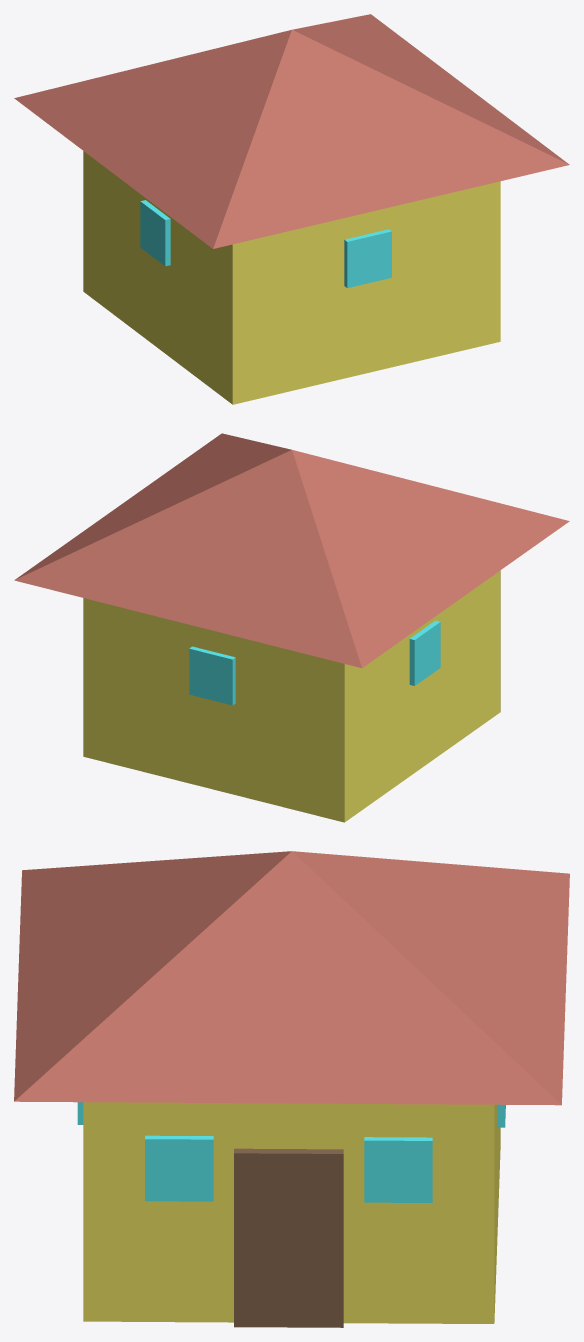
File: house.glb
3 renders of one model, top to bottom at view 1: azimuth 30°, elevation 25°; view 2: azimuth 150°, elevation 25°; view 3: azimuth 270°, elevation 25°, orthographic. The views are drawn at different scales.
Visible parts, largest first — view 1: House.001; view 2: House.001; view 3: House.001.
Part boxes in pixels (x1,y1,x2,y2): House.001: (14,14,569,404); House.001: (14,433,569,822); House.001: (14,851,569,1327).
Size of the model in its own units: 4.06 by 3.1 by 4.06.
